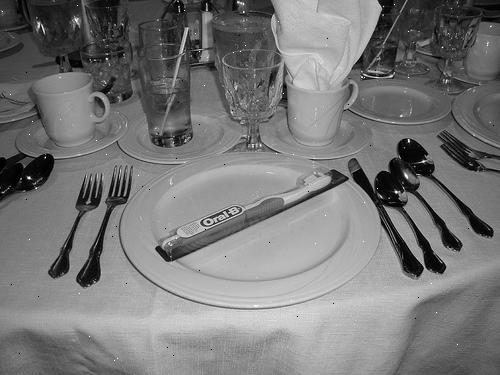cup: (212, 38, 294, 150), (134, 42, 210, 154), (28, 63, 116, 152), (276, 72, 361, 148), (208, 10, 287, 90), (425, 7, 488, 98), (64, 32, 140, 107), (136, 17, 205, 85), (70, 0, 132, 67), (451, 5, 498, 90), (355, 6, 406, 81), (33, 0, 89, 66), (392, 5, 435, 74)
